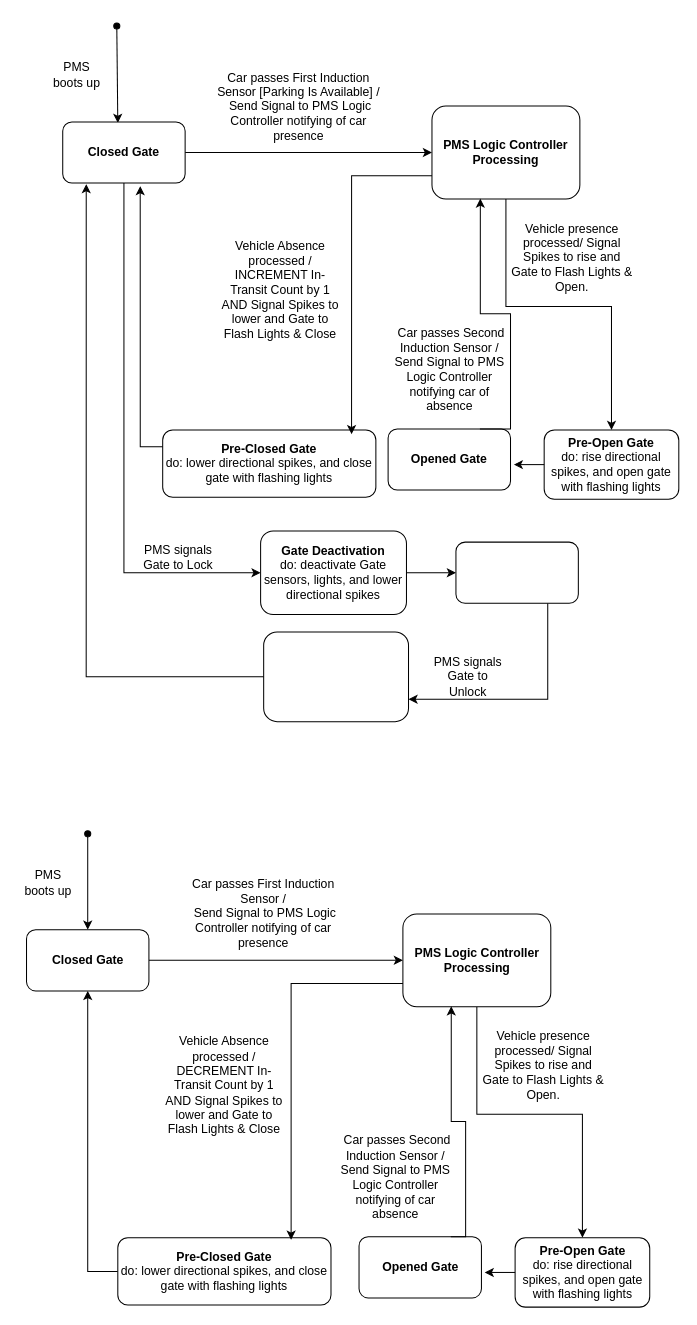
This 697x1325 diagram has some shape labels left out. Each missing label, with the box of its shape:
Gate Reactivation do: reactivate gate sensors/lights: (263, 631, 409, 722)
Locked Gate: (455, 541, 578, 603)
